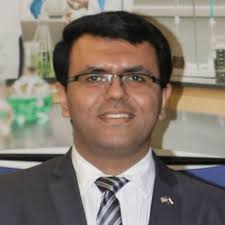middle_eastern_male: (77, 49, 157, 134)
